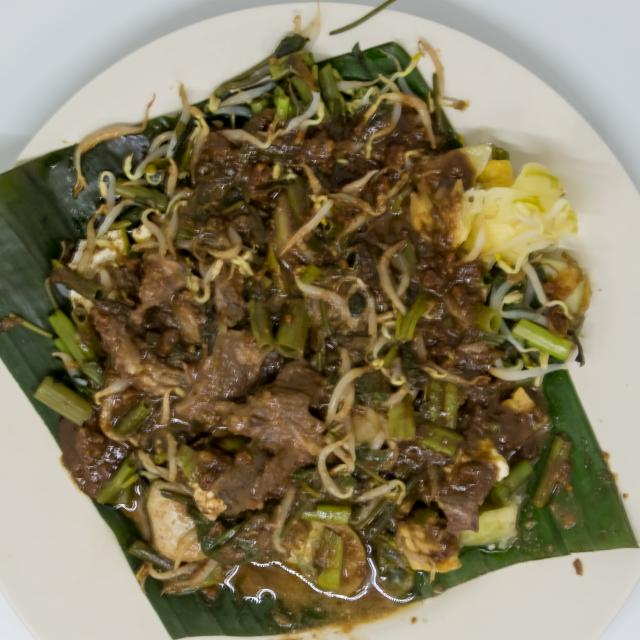Rujak-Cingur: (32, 32, 590, 609)
